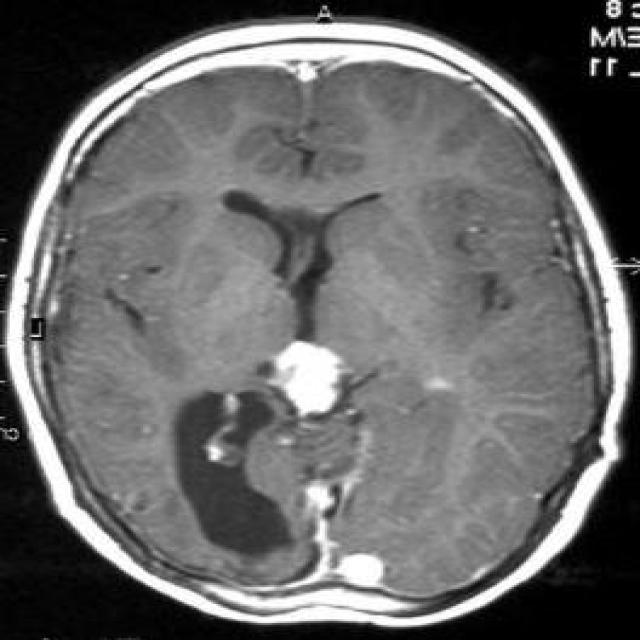Tumor-Cell: (238, 339, 376, 443)
